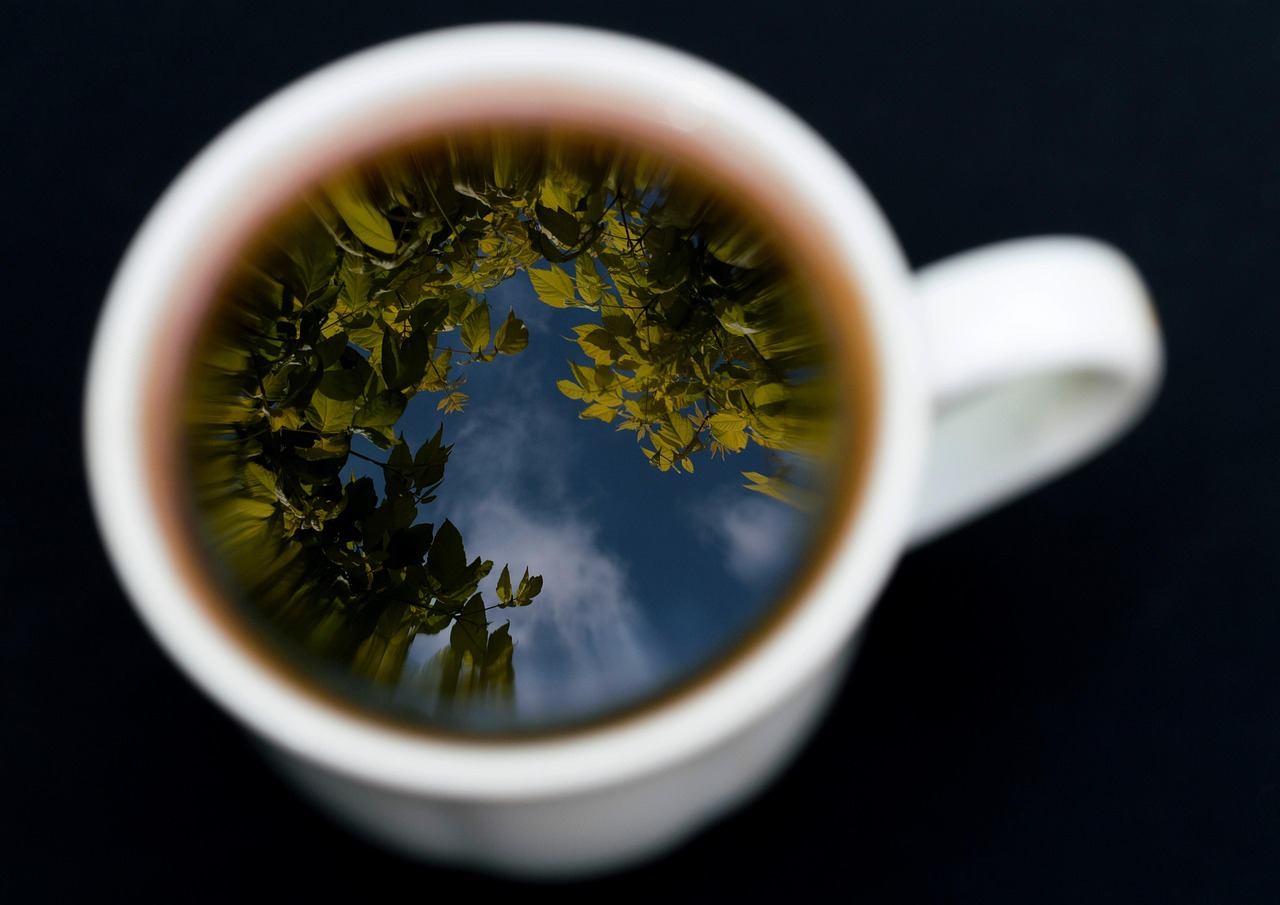mug: (62, 21, 1194, 883)
